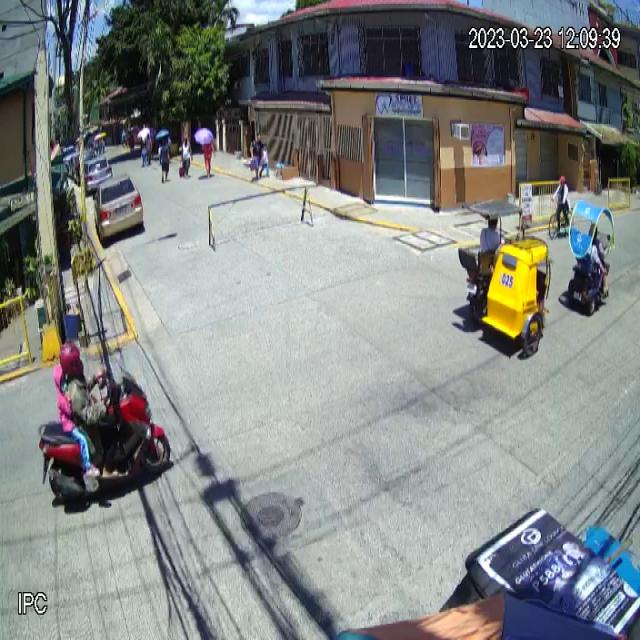Motorcycle: (37, 365, 172, 504)
Tricycle: (458, 198, 554, 358)
